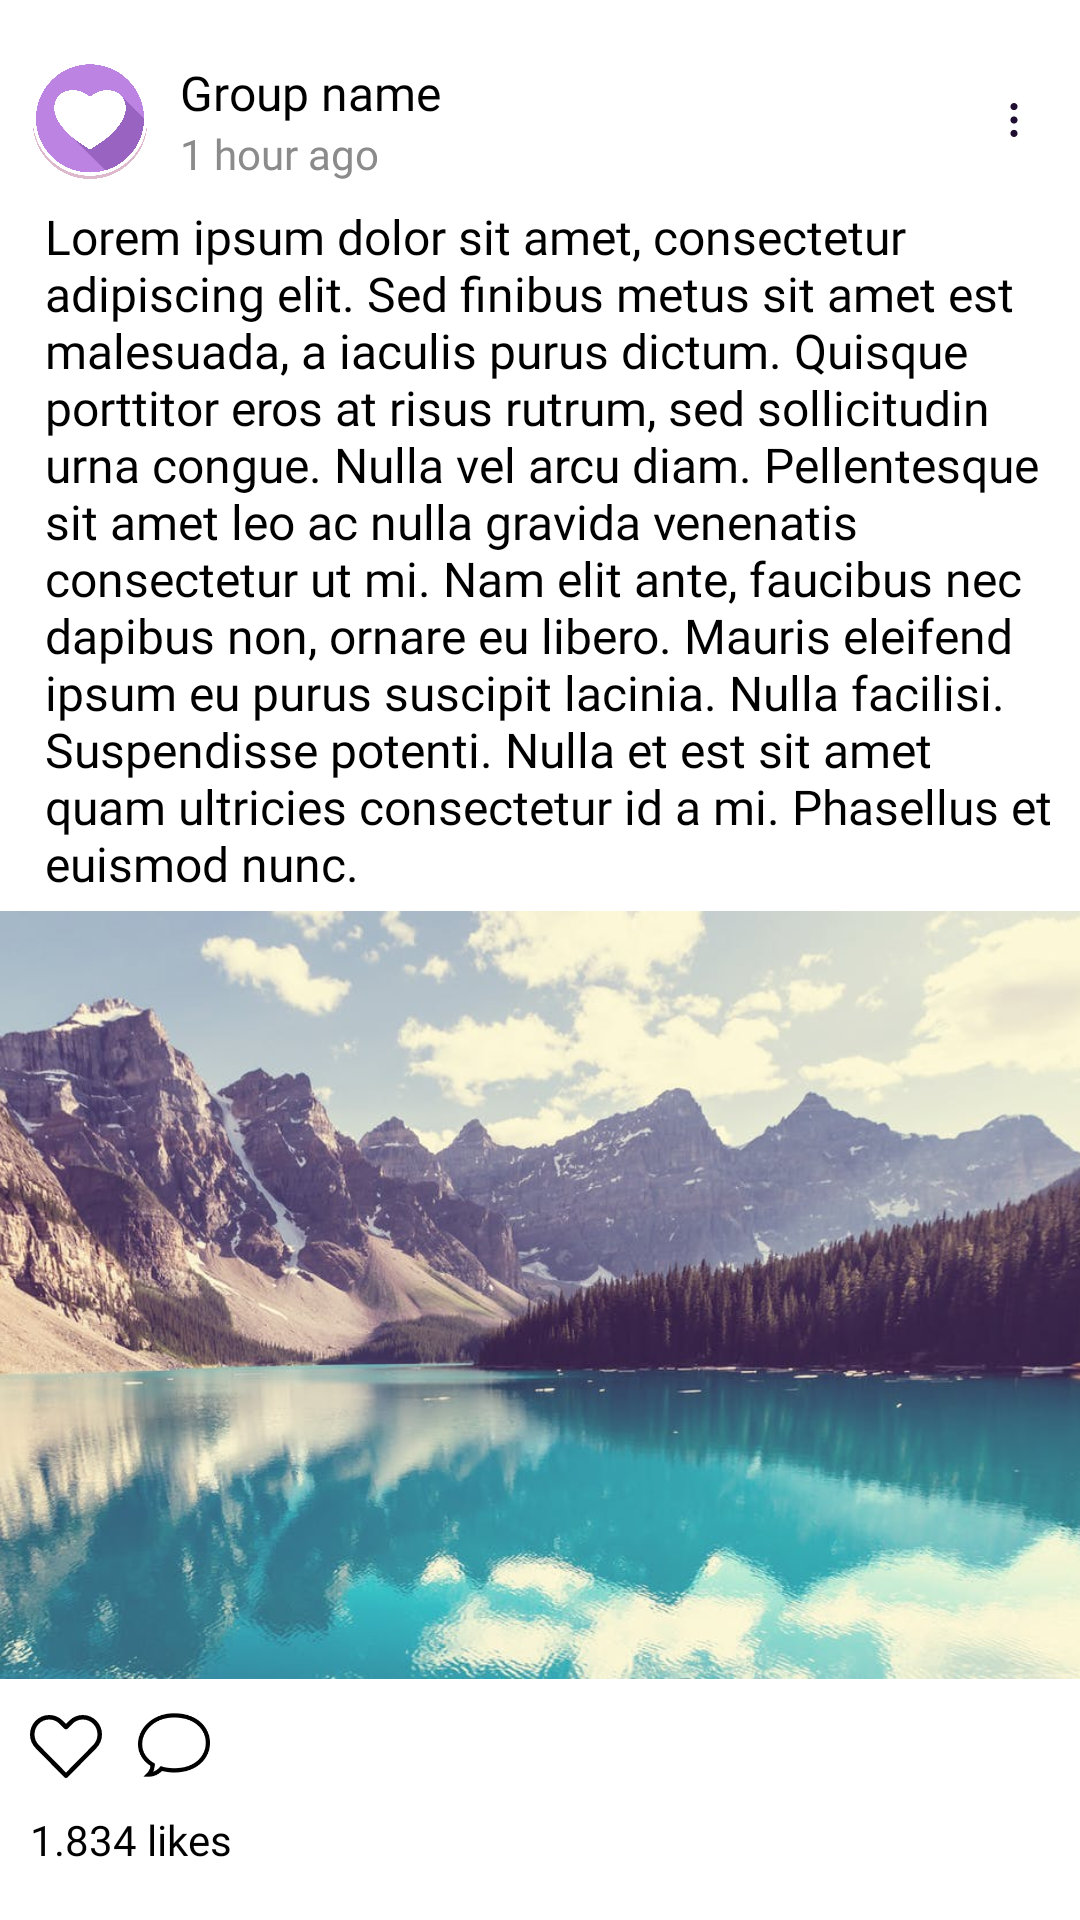

Icon bounding boxes for this 1080px x 1920px phone screenshot, format [x1=x1, y1=y1, x2=x2, y2=y2]:
comment: [x1=138, y1=1713, x2=210, y2=1777]
dots: [x1=1010, y1=103, x2=1018, y2=137]
heart animate: [x1=30, y1=1715, x2=102, y2=1778]
